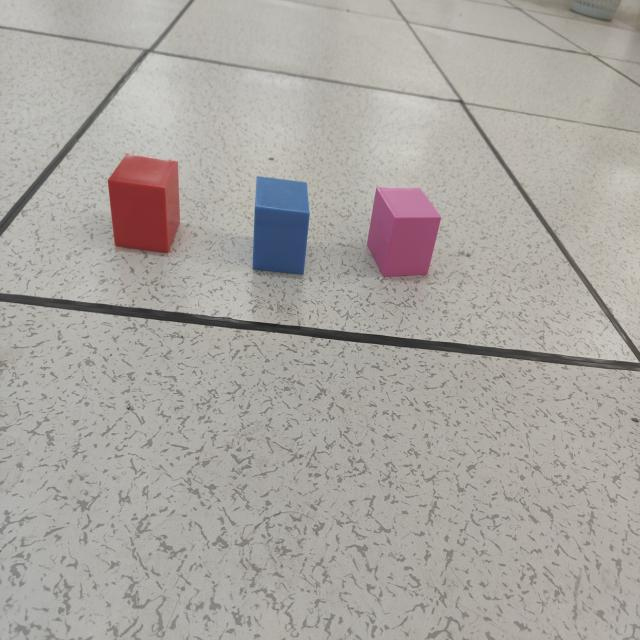blue: (250, 178, 311, 277)
pink: (367, 187, 442, 280)
red: (108, 156, 181, 256)
